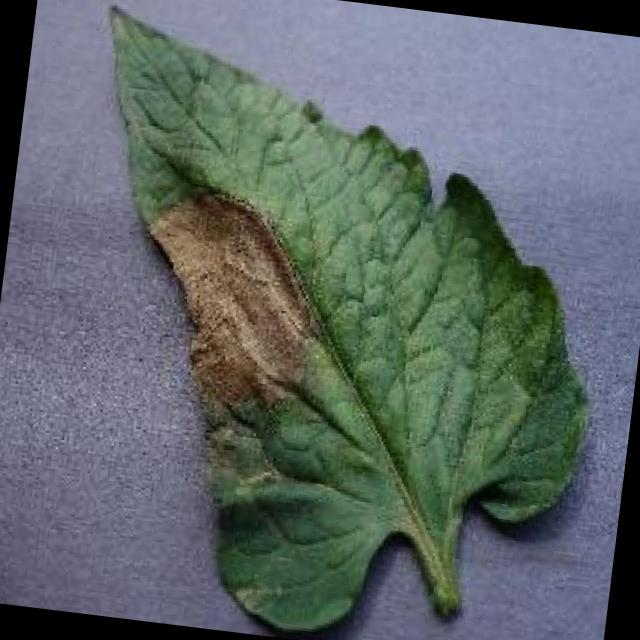Tomato_Late_Blight: (110, 168, 342, 422)
